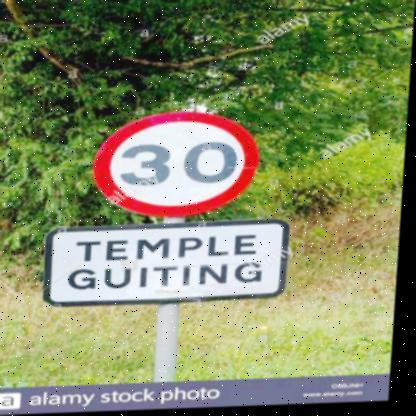Speed Limit -30-: (90, 110, 263, 220)
